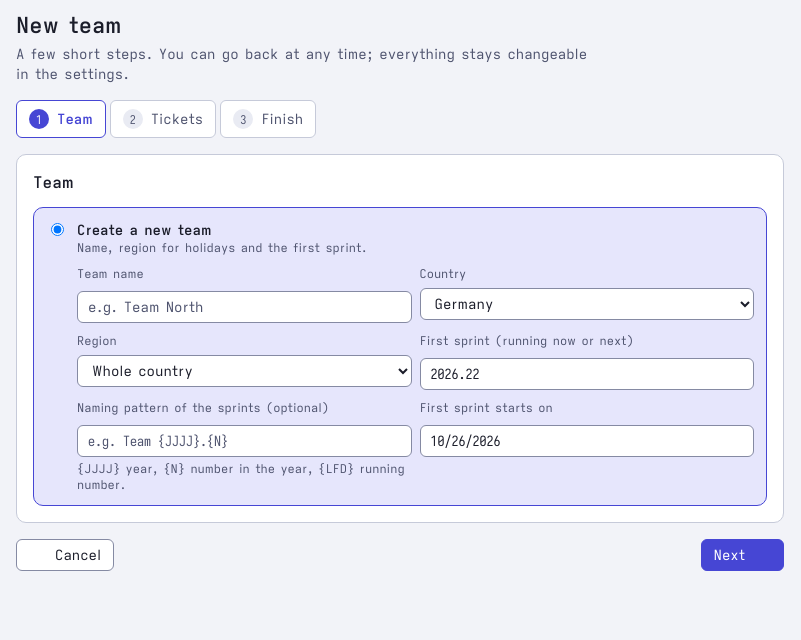
Test: Setup wizard, new team › asks for a team name and a sprint ID before it goes on
The image size is (801, 640).
Check: the field with id "su-sd" is shown, box [420, 425, 754, 457]
Click the button "Next": [742, 555] box [700, 539, 784, 571]
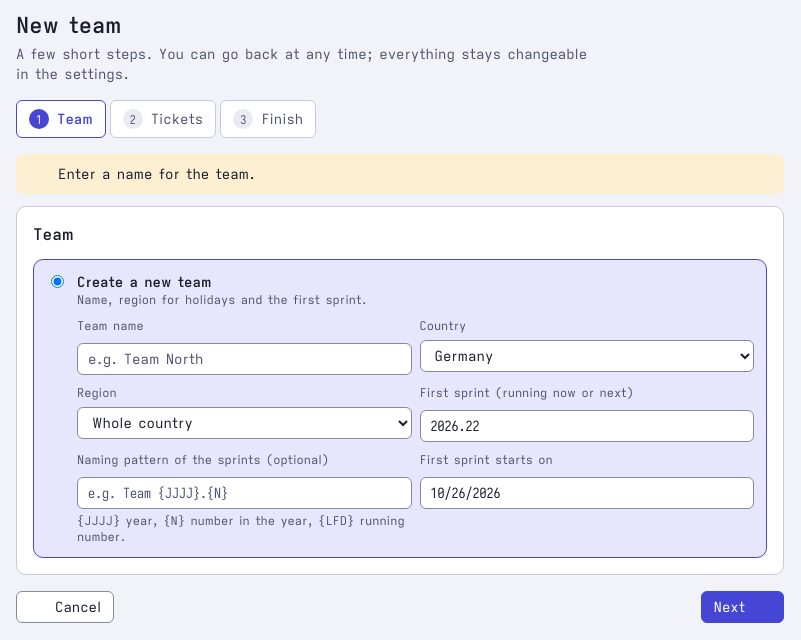
Check: the text "Enter a name for the team." is shown, box [58, 165, 255, 183]
In the field labelled "Team name": [244, 359] box [77, 343, 412, 375], type "Team North"
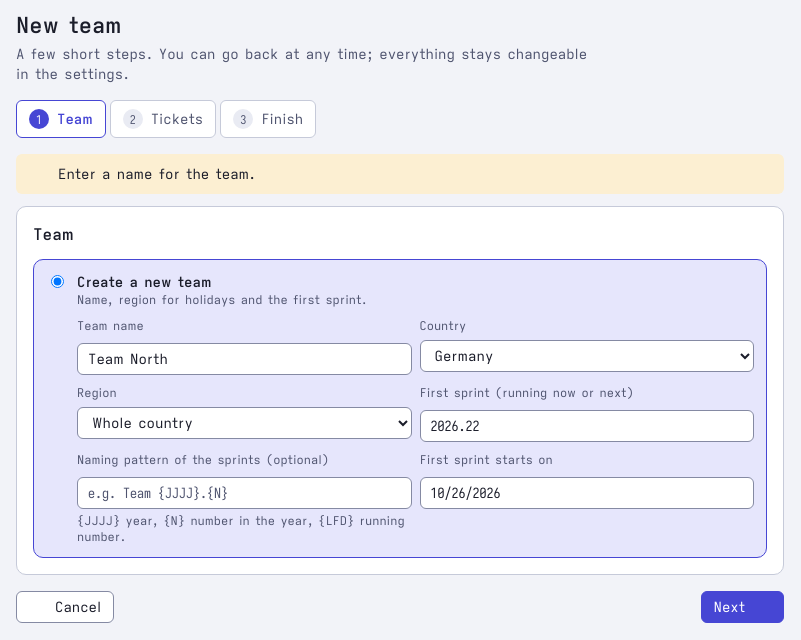
Clear the field labelled "First sprint (running now or next)": [587, 426] box [420, 410, 754, 442]
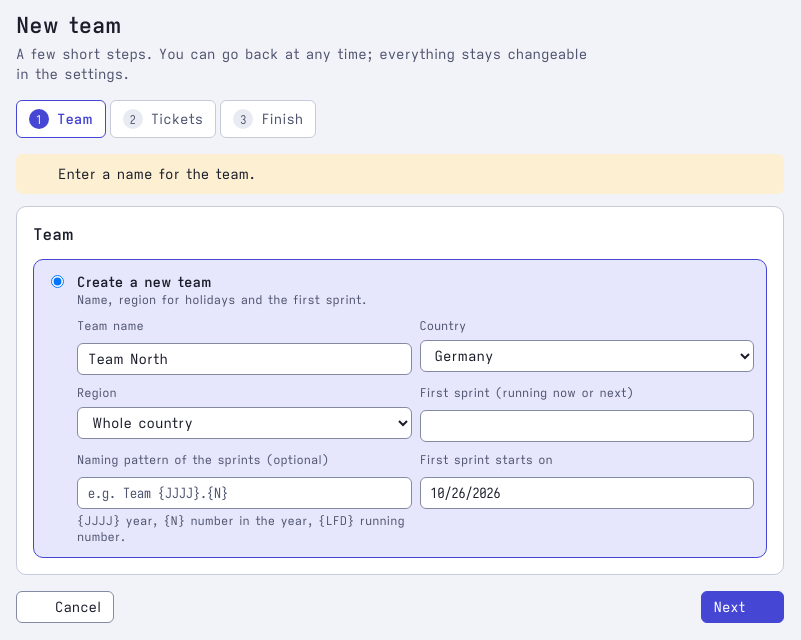
Click the button "Next": [742, 607] box [700, 591, 784, 623]
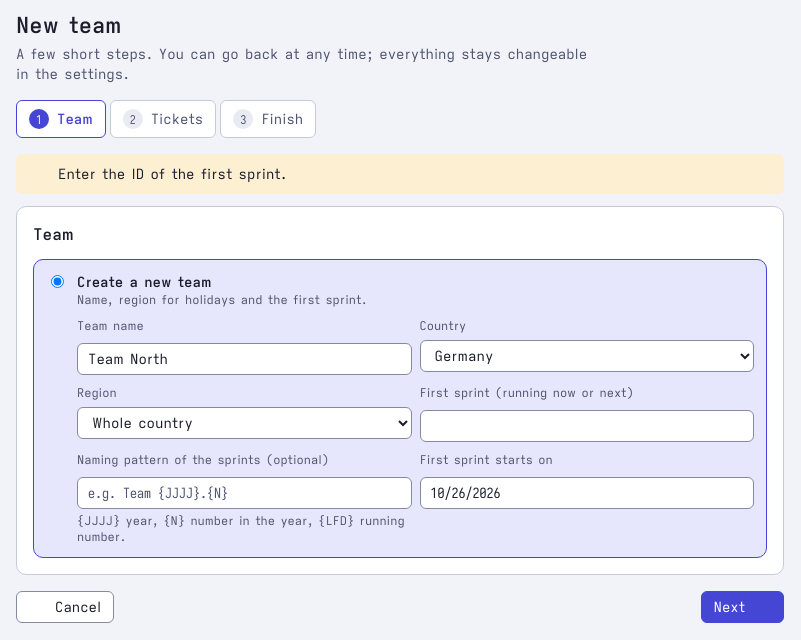
Check: the heading "Team" is shown, box [33, 225, 74, 245]
Check: the text "Enter the ID of the first sprint." is shown, box [58, 165, 287, 183]
